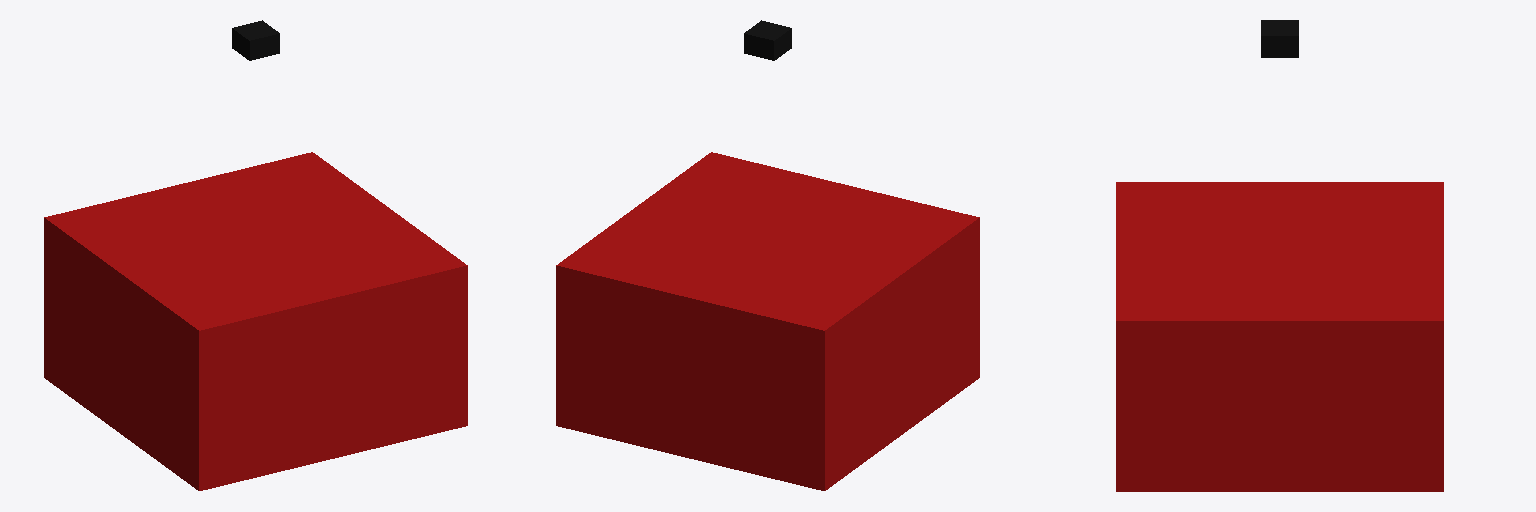
robot.urdf — mid360_robot:
<?xml version="1.0"?>
<robot name="mid360_robot">

  <link name="base_link">
    <visual>
      <geometry>
        <box size="0.7 0.7 0.4"/>
      </geometry>
      <material name="red">
        <color rgba="0.7 0.1 0.1 1"/>
      </material>
    </visual>
    <collision>
      <geometry>
        <box size="0.7 0.7 0.4"/>
      </geometry>
    </collision>
    <inertial>
      <mass value="20.0"/>
      <inertia ixx="0.5" ixy="0" ixz="0" iyy="0.5" iyz="0" izz="0.5"/>
    </inertial>
  </link>

  <joint name="livox_mid360_joint" type="fixed">
    <parent link="base_link"/>
    <child link="livox_mid360_link"/>
    <origin xyz="0 0 0.7" rpy="0 0 0"/> 
  </joint>

  <link name="livox_mid360_link">
    <visual>
      <origin xyz="0 0 0" rpy="0 0 0"/>
      <geometry>
        <box size="0.08 0.08 0.05"/> 
      </geometry>
      <material name="lidar_black">
        <color rgba="0.1 0.1 0.1 1"/>
      </material>
    </visual>
    
    <collision>
        <geometry><box size="0.08 0.08 0.05"/></geometry>
    </collision>
    <inertial>
        <mass value="0.2"/>
        <inertia ixx="0.0002" ixy="0" ixz="0" iyy="0.0002" iyz="0" izz="0.0002"/>
    </inertial>
  </link>

  <gazebo reference="base_link">
    <material>Gazebo/Red</material>
  </gazebo>

  <gazebo reference="livox_mid360_link">
    <plugin name="livox_laser_plugin" filename="libros2_livox.so">
      <ros>
        <namespace>/</namespace>
        <argument>livox/lidar</argument>
        <argument>livox_ros_driver2/msg/CustomMsg</argument> 
      </ros>
      <laser_name>mid360_laser</laser_name>
      <horizontal_min_angle>-3.14159265359</horizontal_min_angle>
      <horizontal_max_angle>3.14159265359</horizontal_max_angle>
      <vertical_min_angle>-0.122173</vertical_min_angle> 
      <vertical_max_angle>0.907571</vertical_max_angle>  
      <add_noise>true</add_noise>
      <downsample>1</downsample>
      <publish_pointcloud_type>0</publish_pointcloud_type>
      <visualize>false</visualize> 
    </plugin>
  </gazebo>

  <gazebo>
    <plugin name="object_controller" filename="libgazebo_ros_planar_move.so">
      <ros><namespace>/</namespace></ros>
      <command_topic>cmd_vel</command_topic>
      <odometry_topic>odom</odometry_topic>
      <odometry_frame>odom</odometry_frame>
      <robot_base_frame>base_link</robot_base_frame>
      <publish_odom>true</publish_odom>
      <publish_odom_tf>true</publish_odom_tf>
    </plugin>
  </gazebo>
</robot>

--- Render facts (derived) ---
Views: 3 orthographic renders of the robot side by side, from view 1: azimuth 30°, elevation 25°; view 2: azimuth 150°, elevation 25°; view 3: azimuth 270°, elevation 25°.
Robot: mid360_robot — 2 links, 1 joints (1 fixed); root link base_link; default pose: all joints at 0.
Links seen in each view (by area): view 1: base_link, livox_mid360_link; view 2: base_link, livox_mid360_link; view 3: base_link, livox_mid360_link.
Boxes of the visible links, box(x1,y1,x2,y2) form: base_link: box(44, 152, 467, 490); livox_mid360_link: box(232, 20, 279, 60); base_link: box(556, 152, 979, 490); livox_mid360_link: box(744, 20, 791, 60); base_link: box(1116, 182, 1443, 491); livox_mid360_link: box(1261, 20, 1298, 57).
Size in the robot's own frame: 0.7 by 0.7 by 0.925 metres.
Geometry: primitives only (box / cylinder / sphere), no mesh files.